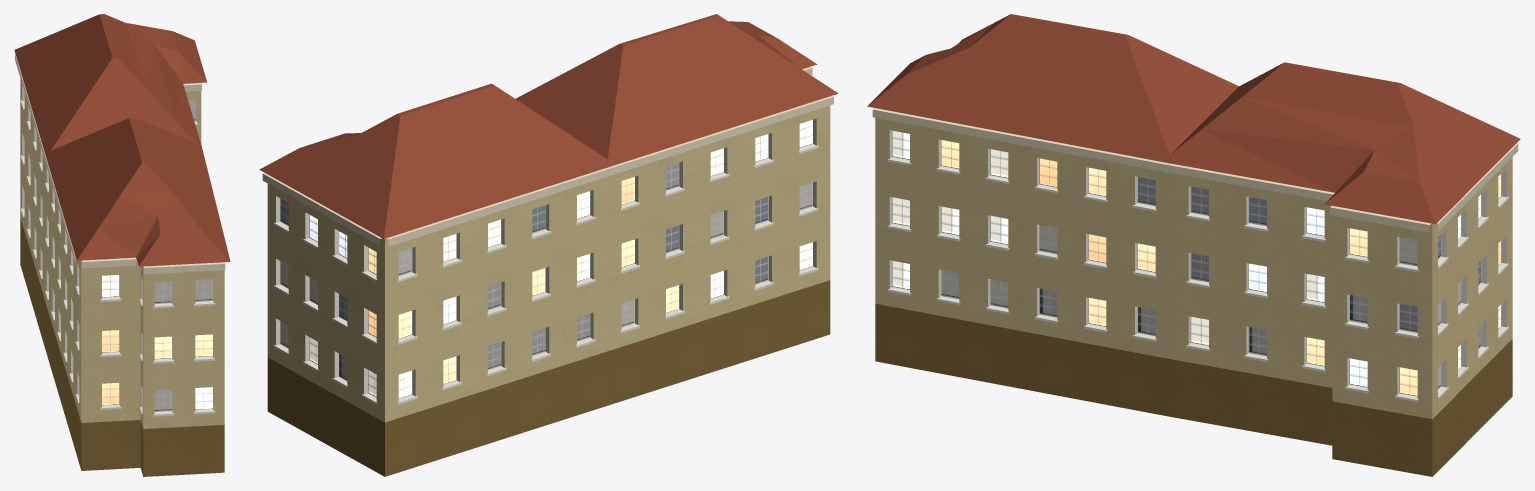
The model's file is z3b_ochre_row.glb.
The picture shows the model from 3 angles, left to right: view 1: azimuth 30°, elevation 25°; view 2: azimuth 150°, elevation 25°; view 3: azimuth 270°, elevation 25°; orthographic projection. The views are drawn at different scales.
Visible parts, largest first — view 1: z3b_ochre_row; view 2: z3b_ochre_row; view 3: z3b_ochre_row.
Part boxes in pixels (x1=…): z3b_ochre_row: x1=14, y1=14, x2=230, y2=476; z3b_ochre_row: x1=259, y1=14, x2=838, y2=476; z3b_ochre_row: x1=867, y1=14, x2=1520, y2=476.
Size of the model in its own units: 20.61 by 17.31 by 30.8.
3 materials, 3 textured.
